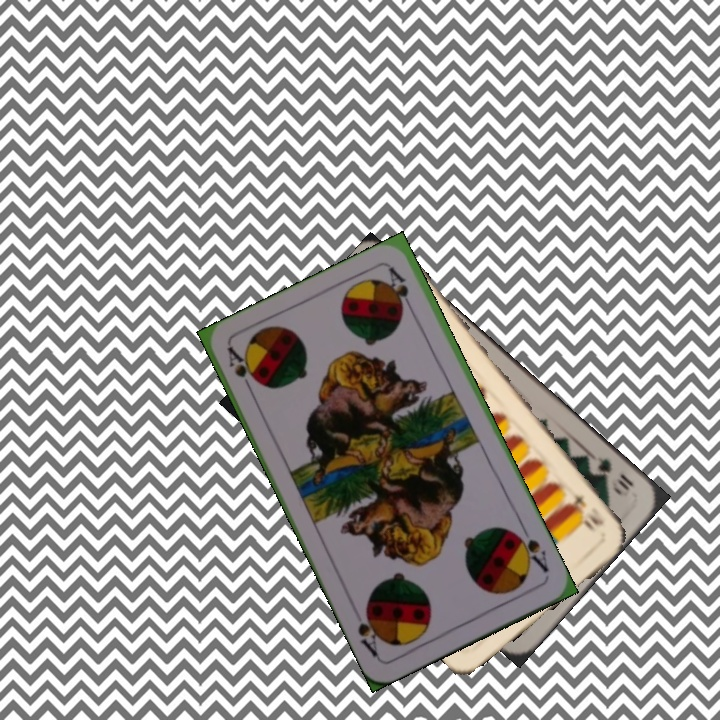E10: (564, 489, 607, 529)
G10: (592, 452, 637, 497)
SA: (510, 523, 551, 575), (223, 343, 260, 399)
